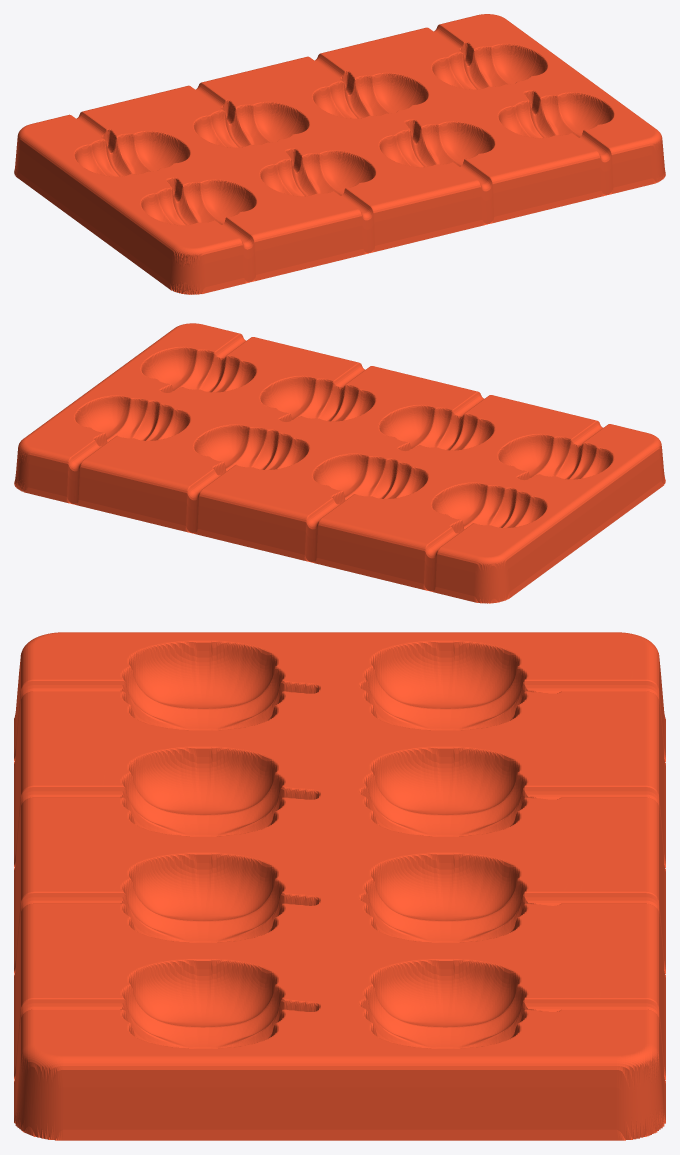
File: mold.glb
3 renders of one model, top to bottom at view 1: azimuth 30°, elevation 25°; view 2: azimuth 150°, elevation 25°; view 3: azimuth 270°, elevation 25°, orthographic. The views are drawn at different scales.
Visible parts, largest first — view 1: geometry_0; view 2: geometry_0; view 3: geometry_0.
Boxes of the visible parts, box(x1,y1,x2,y2) form: geometry_0: box(14, 14, 665, 294); geometry_0: box(14, 323, 665, 603); geometry_0: box(14, 632, 665, 1140).
Size of the model in its own units: 0.1907 by 0.0155 by 0.1197.
